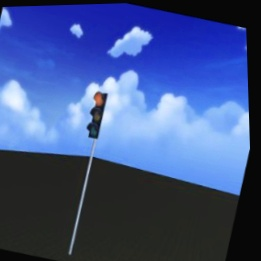sinalRed: (83, 89, 111, 142)
